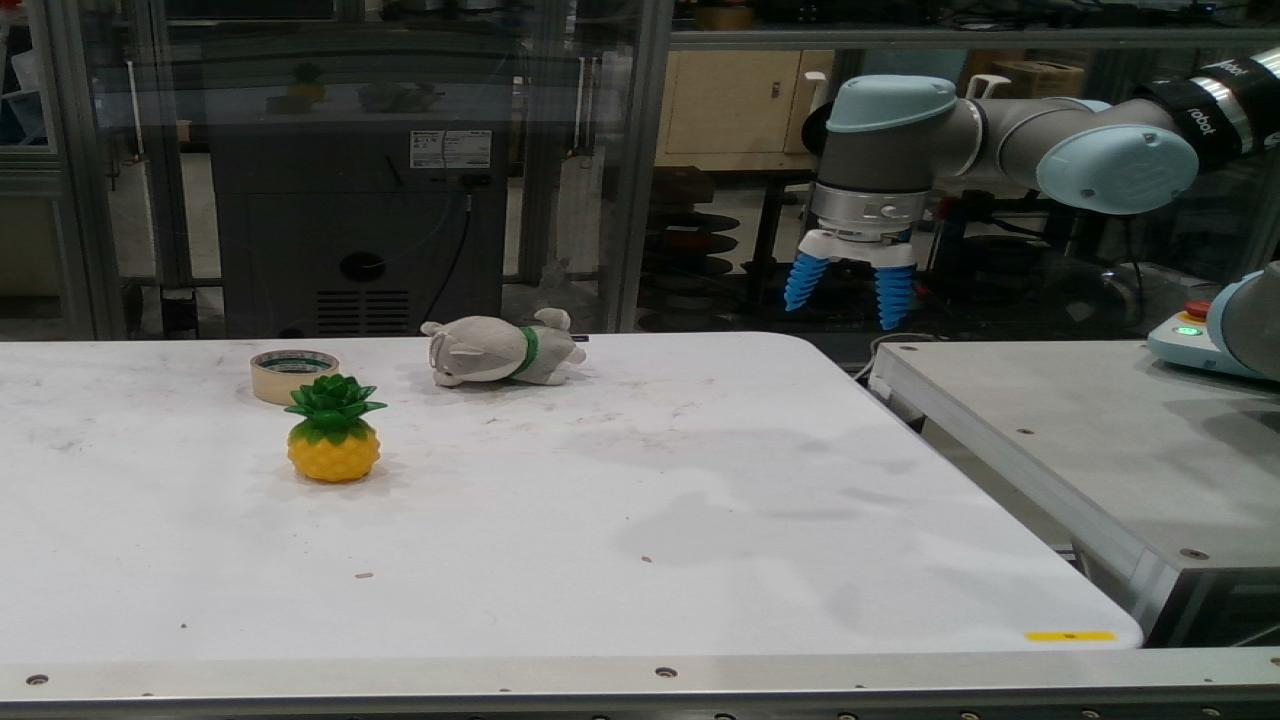UR5: (797, 45, 1279, 269), (1206, 256, 1279, 381)
gripper_left: (785, 253, 828, 312)
gripper_right: (876, 265, 911, 330)
target: (421, 308, 587, 388), (283, 373, 390, 482), (250, 349, 340, 405)
